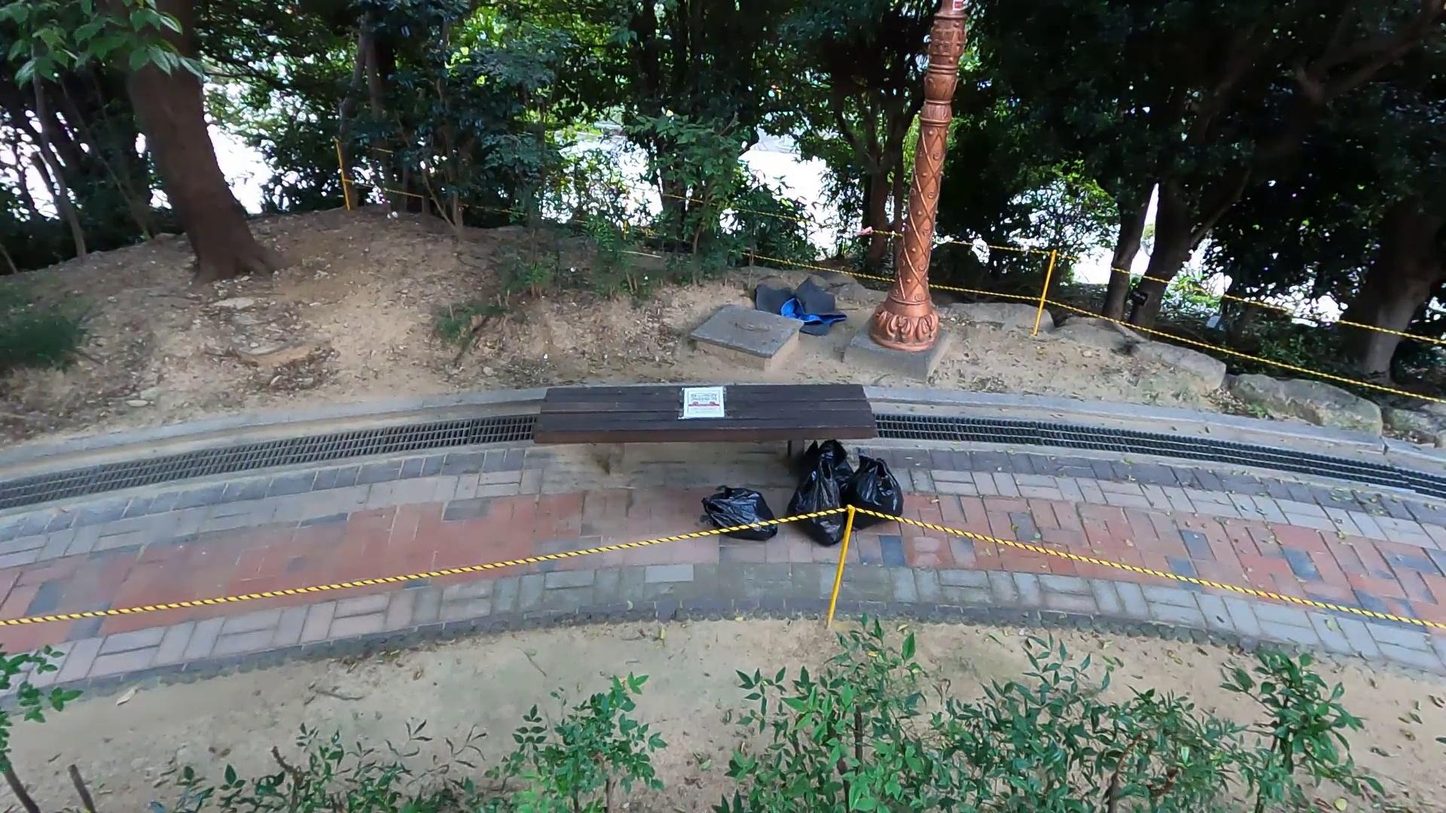trash: (754, 275, 848, 336), (787, 458, 846, 543), (843, 453, 906, 527), (702, 482, 778, 541), (790, 438, 861, 492)
